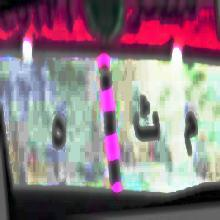5: (45, 98, 72, 167)
meem: (178, 107, 201, 167)
thaa: (128, 90, 163, 150)
